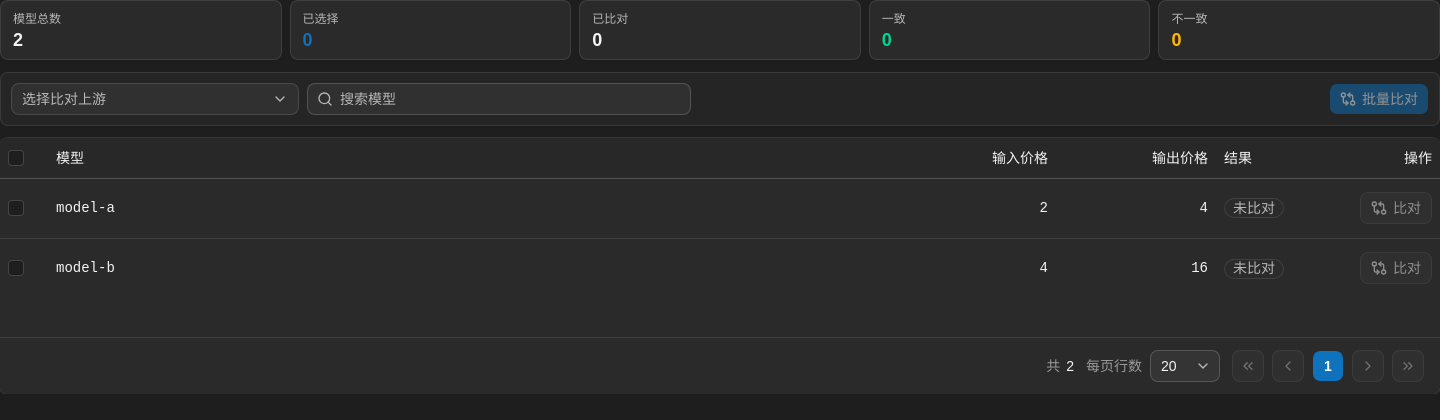
Scenario: New API 价格比对 › 搜索无匹配模型时显示空状态，同时保留比对概览
The width and height of the screenshot is (1440, 420).
Check: the element named "价格比对概览" shows "模型总数", box [13, 12, 61, 26]
Type "不存在" into the field named "搜索比对模型" at [499, 99], box [307, 83, 691, 115]
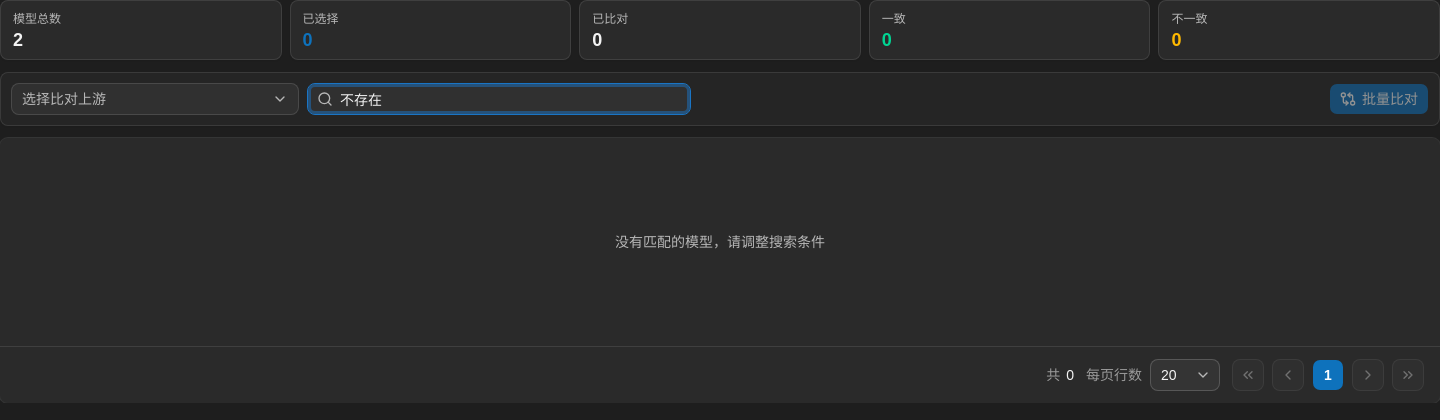
Check: the element named "价格比对概览" is shown, box [0, 0, 1439, 60]
Check: the text "没有匹配的模型，请调整搜索条件" is shown, box [615, 234, 825, 250]
